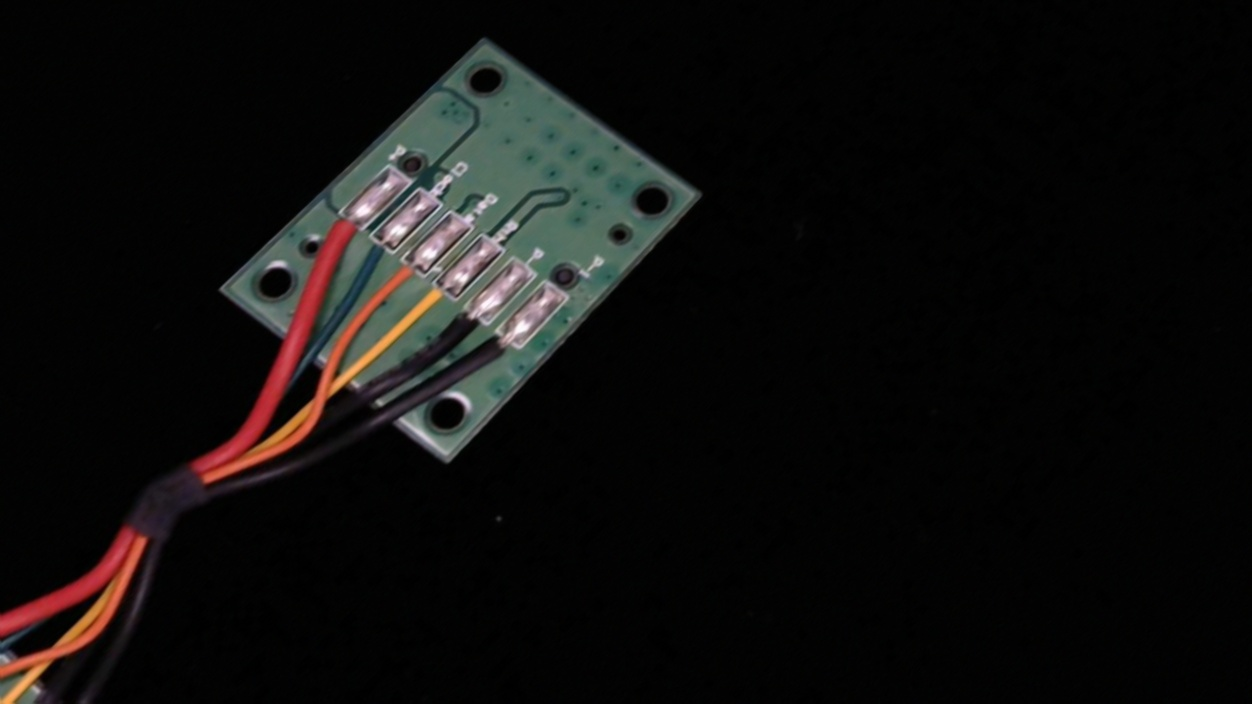Black: (417, 294, 503, 369)
Black1: (456, 320, 531, 386)
Green: (323, 222, 414, 298)
Orange: (353, 245, 444, 323)
Red: (290, 200, 382, 276)
Yellow: (387, 269, 472, 344)
